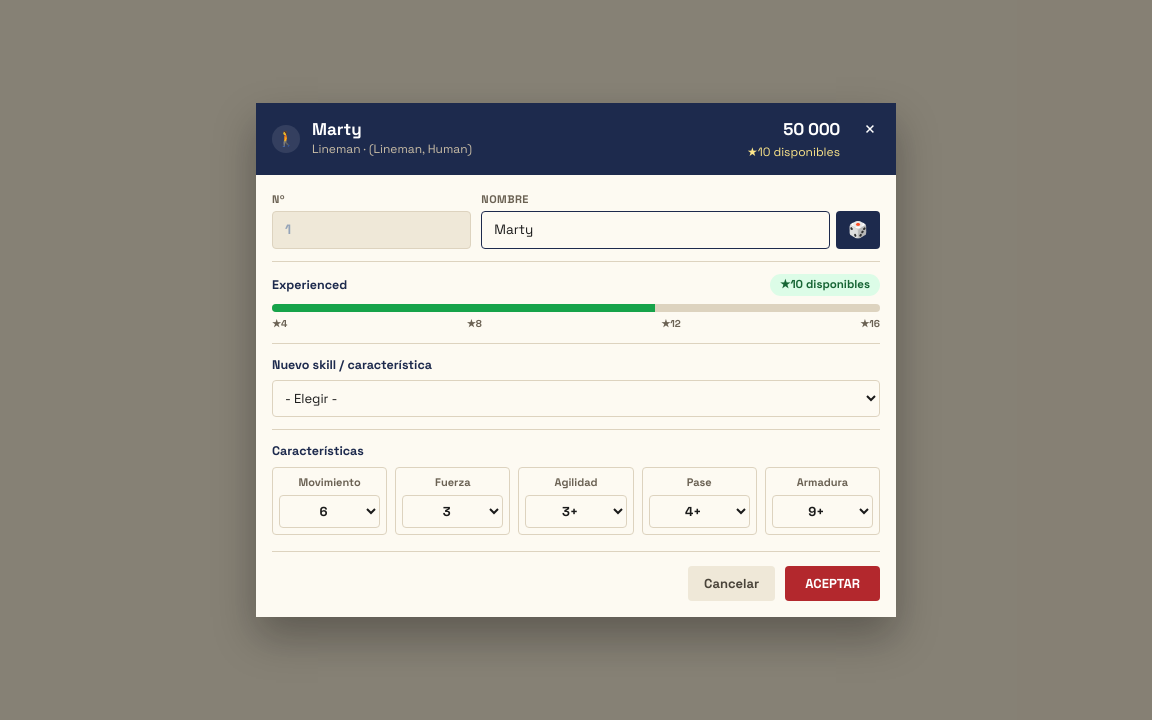
Test: PlayerImproveModal › surfaces the server error verbatim and keeps the modal open
The image size is (1152, 720).
Select "Fend" in the dropdown with test id "upgrade-select" at (576, 399), box [272,380,880,417]
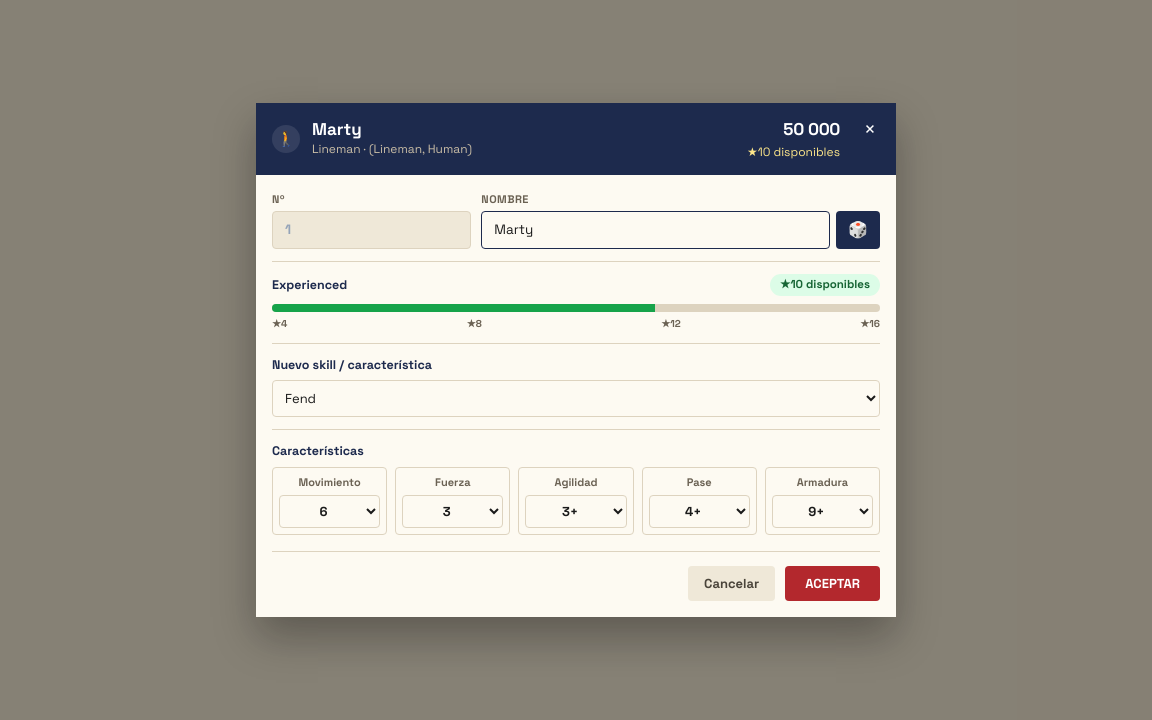
Click the button with test id "modal-accept" at (833, 583), box [785,566,880,601]
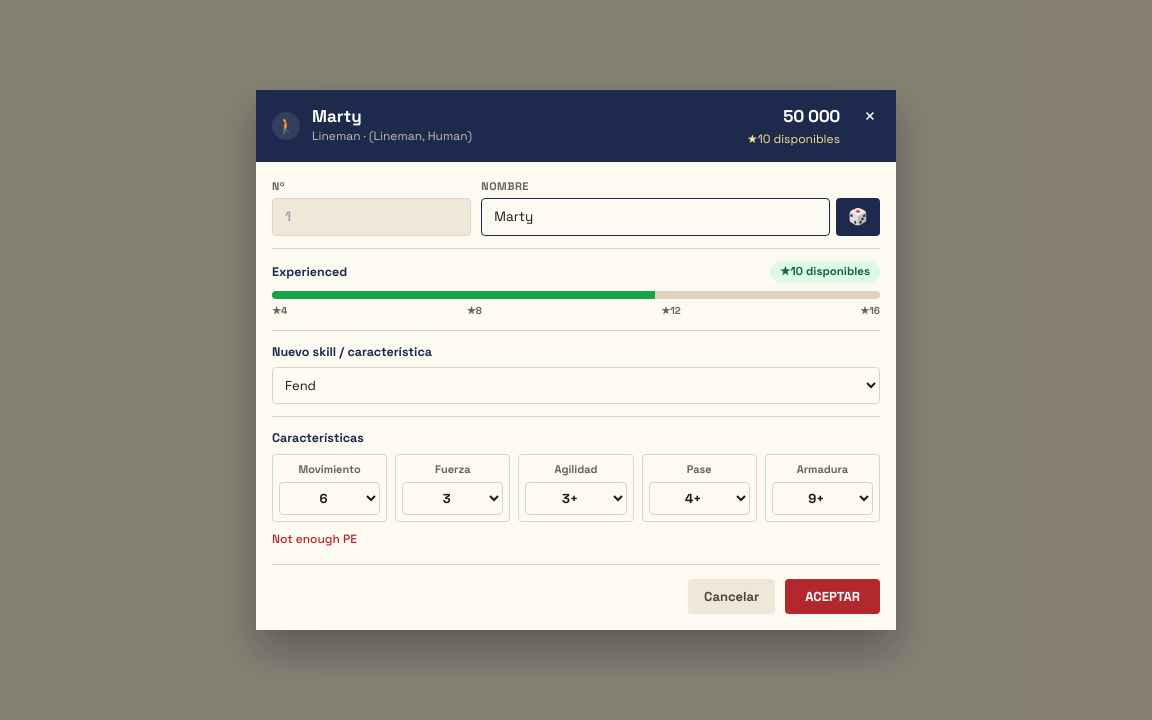
Now the message reads "Not enough PE", box [272,530,357,546]
